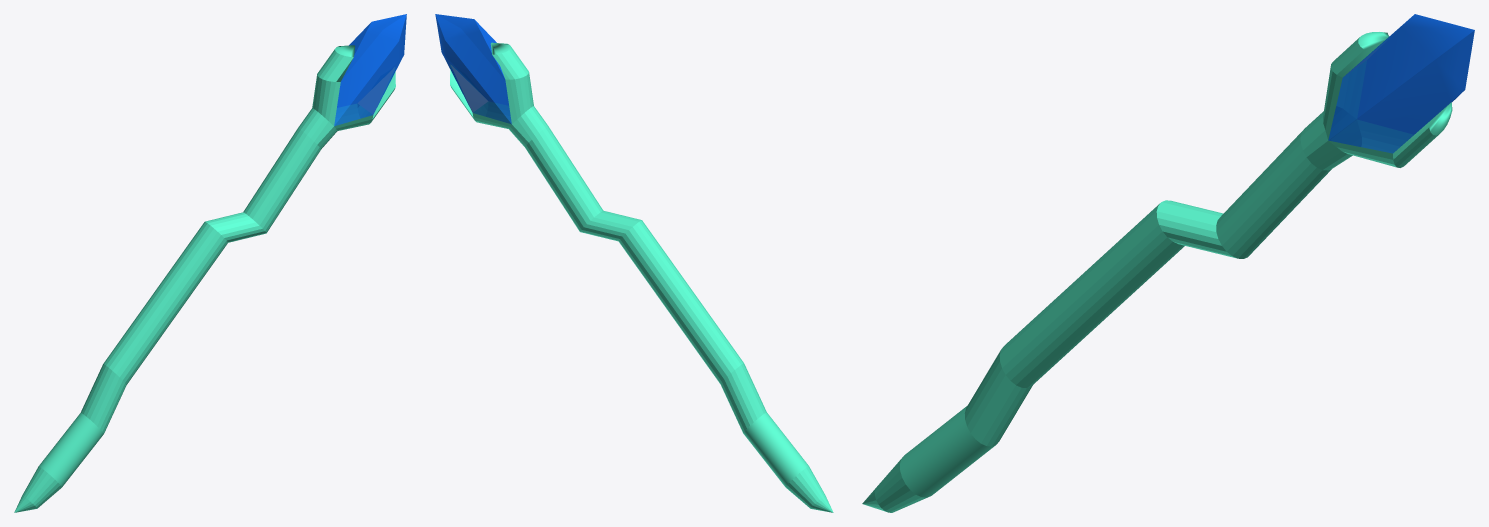
File: diamond_staff.obj
3 renders of one model, left to right at view 1: azimuth 30°, elevation 25°; view 2: azimuth 150°, elevation 25°; view 3: azimuth 330°, elevation 25°, orthographic. The views are drawn at different scales.
Visible parts, largest first — view 1: Object_2; view 2: Object_2; view 3: Object_2.
Boxes of the visible parts, left/top/right/bottom form: Object_2: left=14, top=14, right=406, bottom=512; Object_2: left=435, top=14, right=833, bottom=512; Object_2: left=862, top=14, right=1474, bottom=512.
Size of the model in its own units: 1.2 by 1.17 by 0.098.
